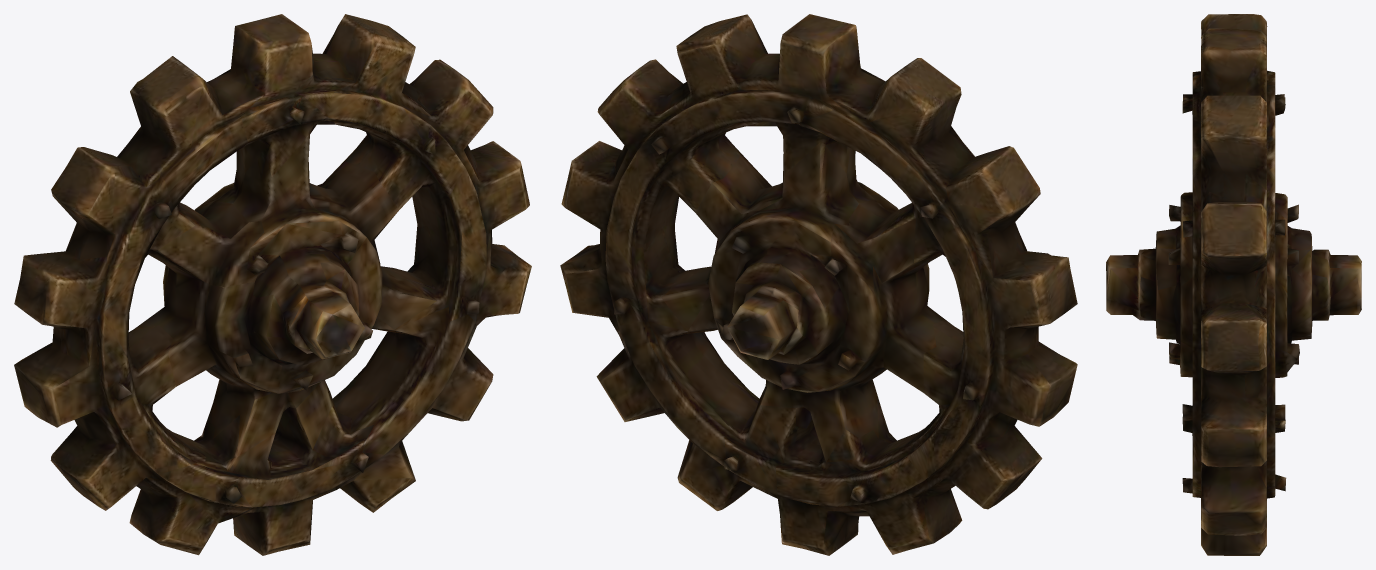
File: gear.glb
3 views of the same model, side by side, from view 1: azimuth 30°, elevation 25°; view 2: azimuth 150°, elevation 25°; view 3: azimuth 270°, elevation 25° (orthographic). The views are drawn at different scales.
Visible parts, largest first — view 1: gear; view 2: gear; view 3: gear.
Part boxes in pixels (x1=…): gear: x1=14, y1=14, x2=531, y2=555; gear: x1=560, y1=14, x2=1077, y2=555; gear: x1=1106, y1=14, x2=1361, y2=555.
Size of the model in its own units: 1.2 by 1.2 by 0.5657.
1 material, 1 textured.
